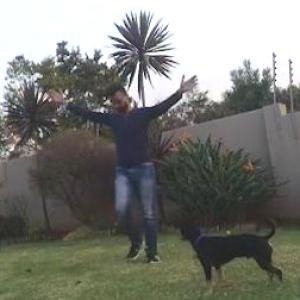takeoff: (48, 74, 200, 249)
